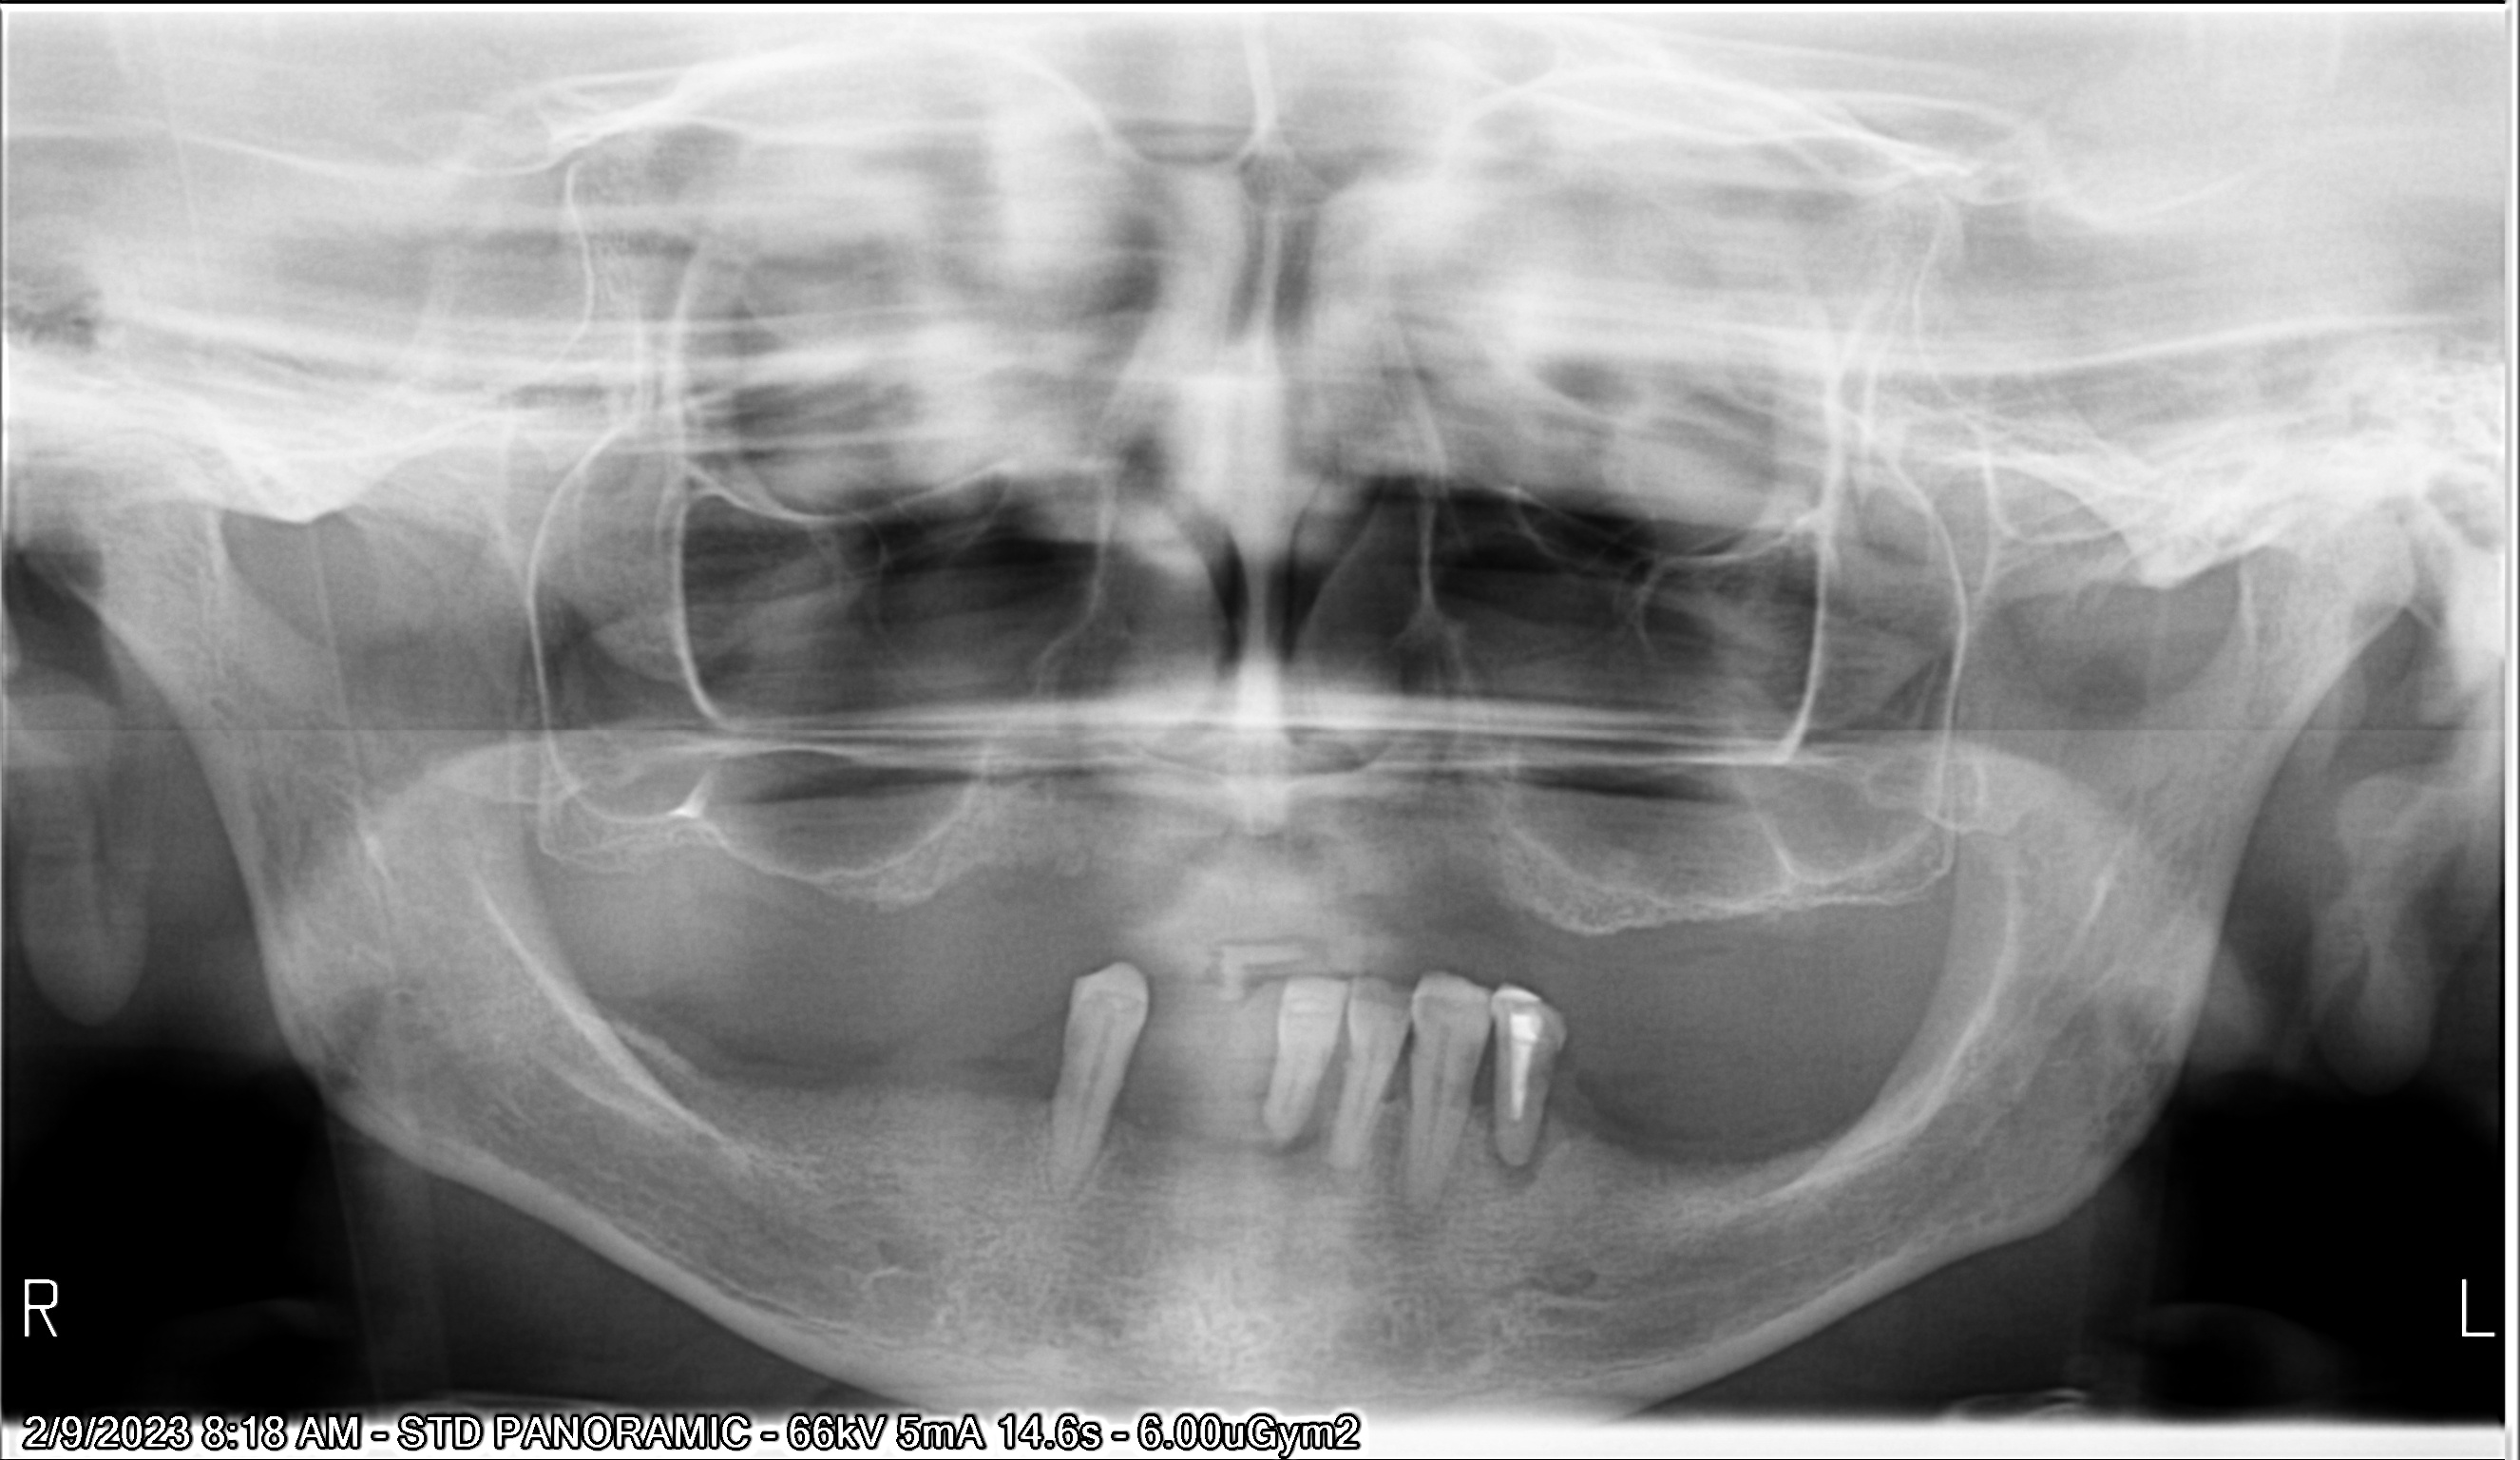API: (1242, 1095, 1332, 1173), (1485, 1116, 1553, 1189)
BON: (999, 1045, 1068, 1116), (1532, 1074, 1593, 1138), (1296, 1053, 1360, 1114), (1098, 1085, 1171, 1137), (1365, 1064, 1426, 1125), (1450, 1065, 1506, 1126)
END: (1499, 1006, 1539, 1137)
